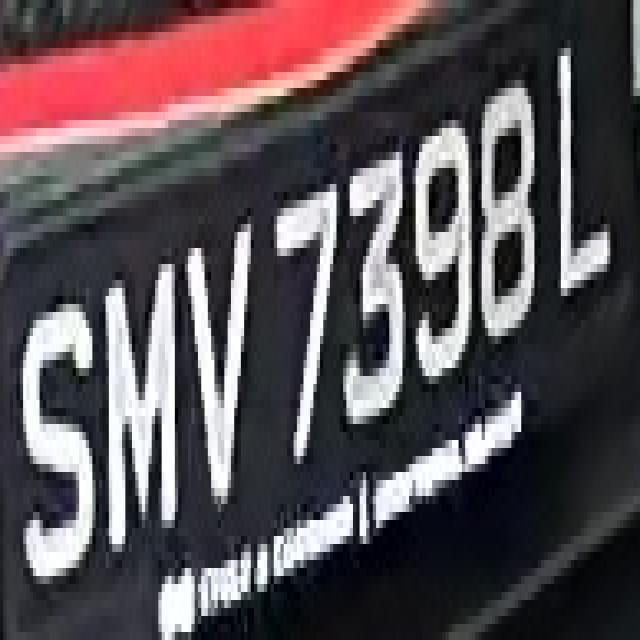3: (327, 152, 412, 456)
7: (258, 160, 346, 480)
8: (462, 72, 551, 384)
9: (402, 128, 478, 384)
L: (544, 32, 620, 312)
M: (96, 224, 178, 552)
S: (10, 296, 96, 600)
V: (175, 184, 257, 512)
